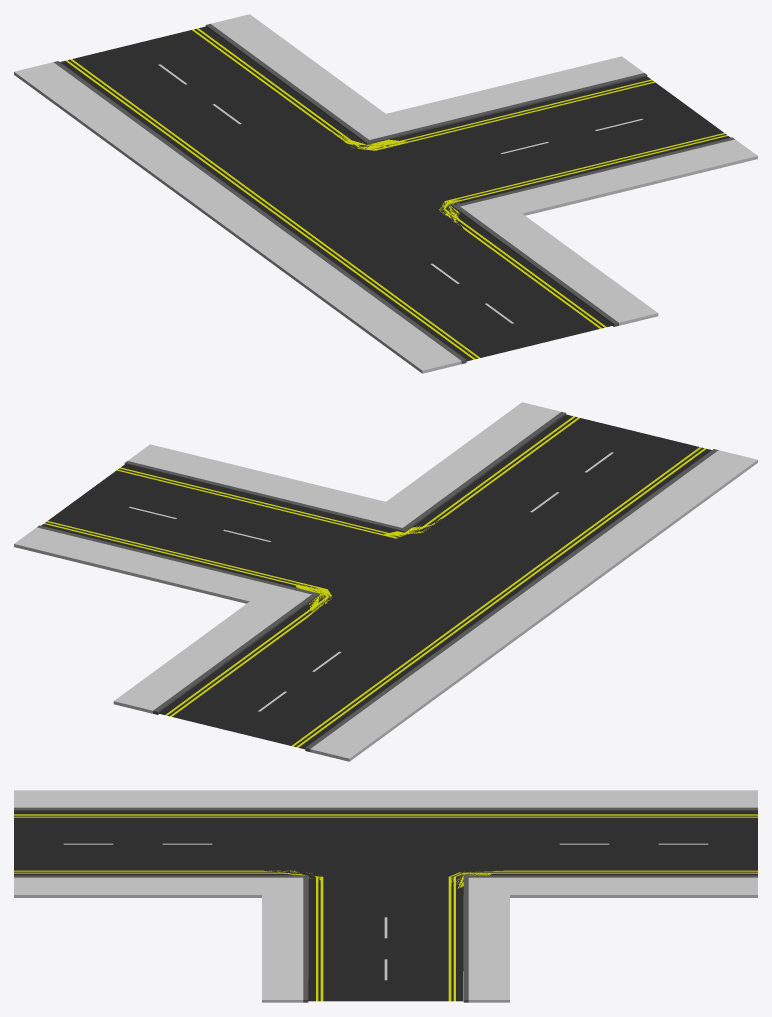
Rendered from m_e_s_road_3_intersection_full.fbx.
The picture shows the model from 3 angles, top to bottom: view 1: azimuth 30°, elevation 25°; view 2: azimuth 150°, elevation 25°; view 3: azimuth 270°, elevation 25°; orthographic projection. The views are drawn at different scales.
Parts seen in each view (by area): view 1: Cube.004, Cube.005, Cube.003, Cube.009, Cube.007, Cube.011, Cube.001, Cube.008, Cube.006, Cube.012, Cube.010, Cube.002 (+1 smaller); view 2: Cube.004, Cube.003, Cube.005, Cube.009, Cube.008, Cube.006, Cube.001, Cube.007, Cube.011, Cube.010, Cube.012, Cube.000 (+1 smaller); view 3: Cube.004, Cube.009, Cube.005, Cube.003, Cube.010, Cube.012, Cube.001, Cube.006, Cube.011, Cube.007, Cube.008, Cube.002 (+1 smaller).
Boxes of the visible parts, x1,y1,x2,y2 form: Cube.004: (196,126,494,261); Cube.005: (60,26,341,161); Cube.003: (332,226,613,361); Cube.009: (412,76,730,194); Cube.007: (497,137,757,215); Cube.011: (286,260,466,373); Cube.001: (150,160,329,273); Cube.008: (386,56,647,133); Cube.006: (14,61,193,173); Cube.012: (478,213,658,326); Cube.010: (205,14,385,125); Cube.002: (341,114,411,144); Cube.004: (277,514,575,649); Cube.003: (430,414,711,549); Cube.005: (158,614,439,749); Cube.009: (41,464,359,582); Cube.008: (14,525,274,603); Cube.006: (305,648,485,761); Cube.001: (442,548,621,661); Cube.007: (124,444,385,521); Cube.011: (578,449,757,561); Cube.010: (113,601,293,714); Cube.012: (386,402,566,513); Cube.000: (360,502,430,532); Cube.004: (262,811,509,896); Cube.009: (308,896,463,1001); Cube.005: (510,811,757,875); Cube.003: (14,811,261,875); Cube.010: (510,875,757,897); Cube.012: (14,875,261,897); Cube.001: (262,790,509,811); Cube.006: (510,790,757,811); Cube.011: (14,790,261,811); Cube.007: (262,895,308,1002); Cube.008: (463,895,509,1002); Cube.002: (463,875,509,894).
Size of the model in its own units: 3200 by 20 by 4800.
